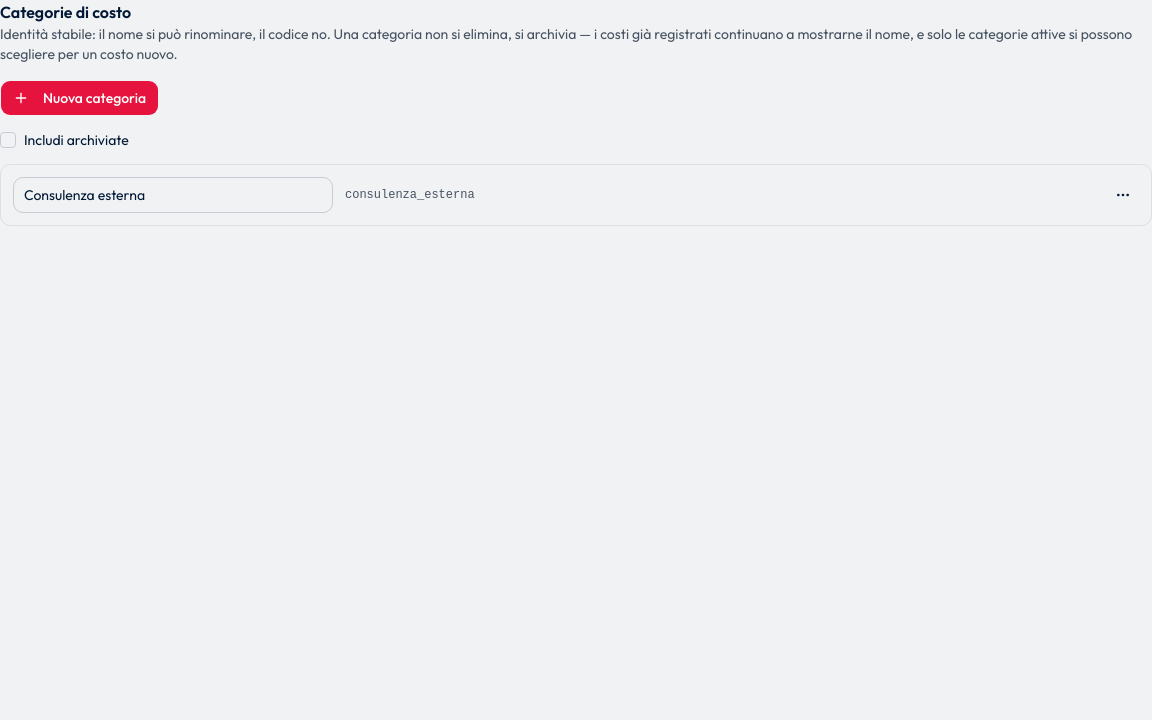
CostCategoriesPanel › reports a refused create inside the dialog, which stays open
Click the button "Nuova categoria". click: (80, 98)
box: [0,80,159,116]
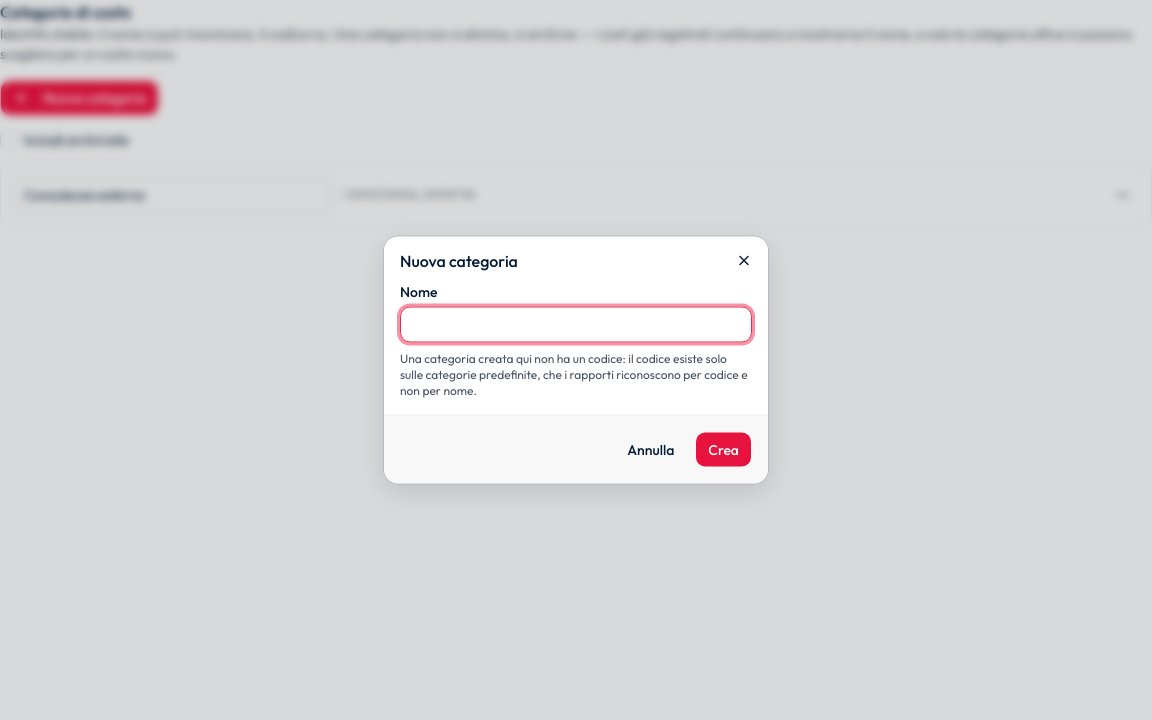
Type "Consulenza esterna" into the field labelled "Nome". click: (576, 324)
box: [400,306,752,342]
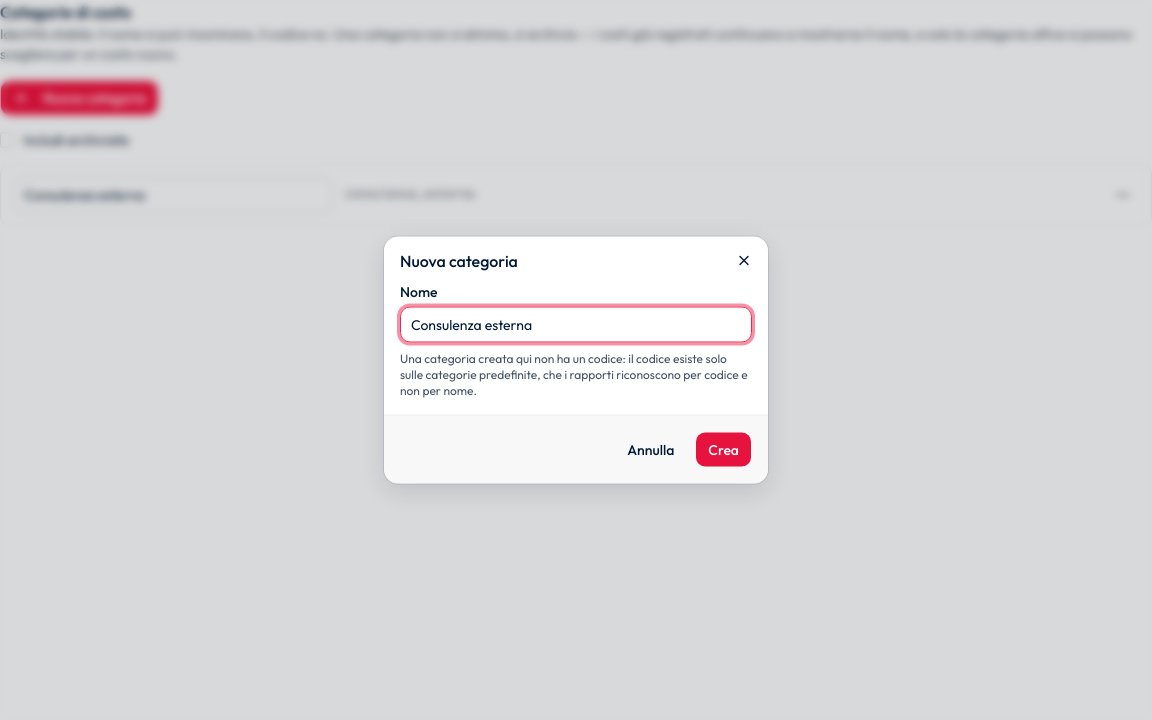
Click the button "Crea". click: (724, 450)
box: [695,432,752,468]
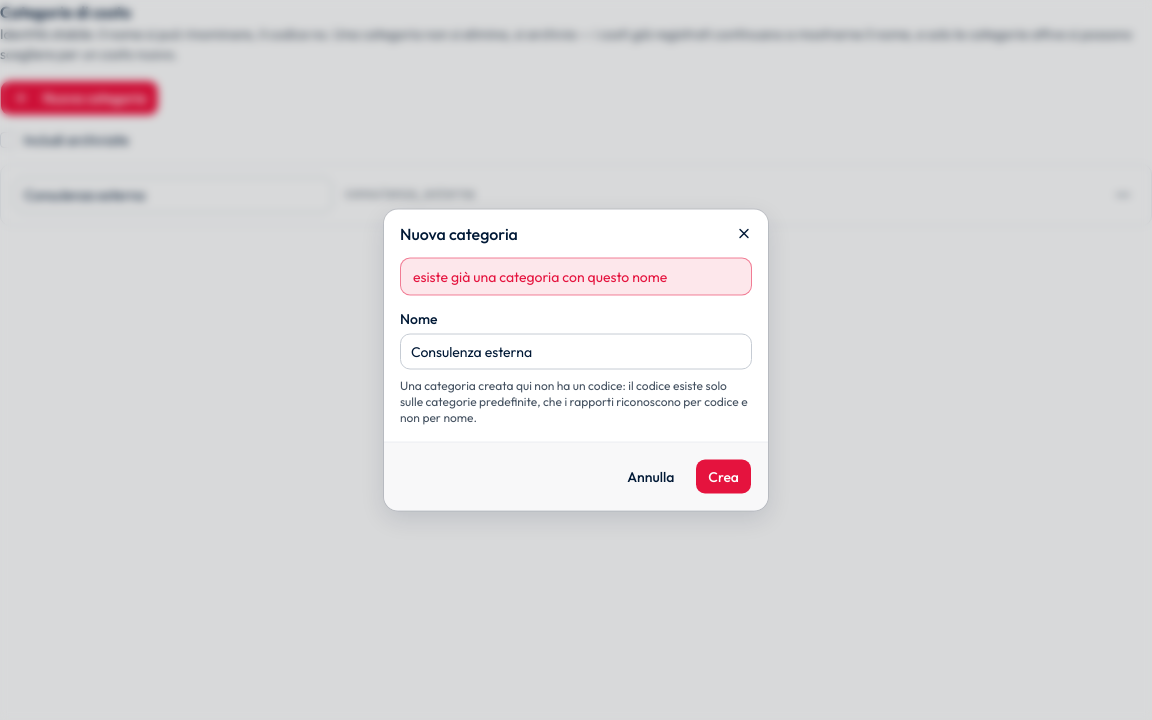
Now the message reads "esiste già una categoria con questo nome", box [413,268,667,286]
